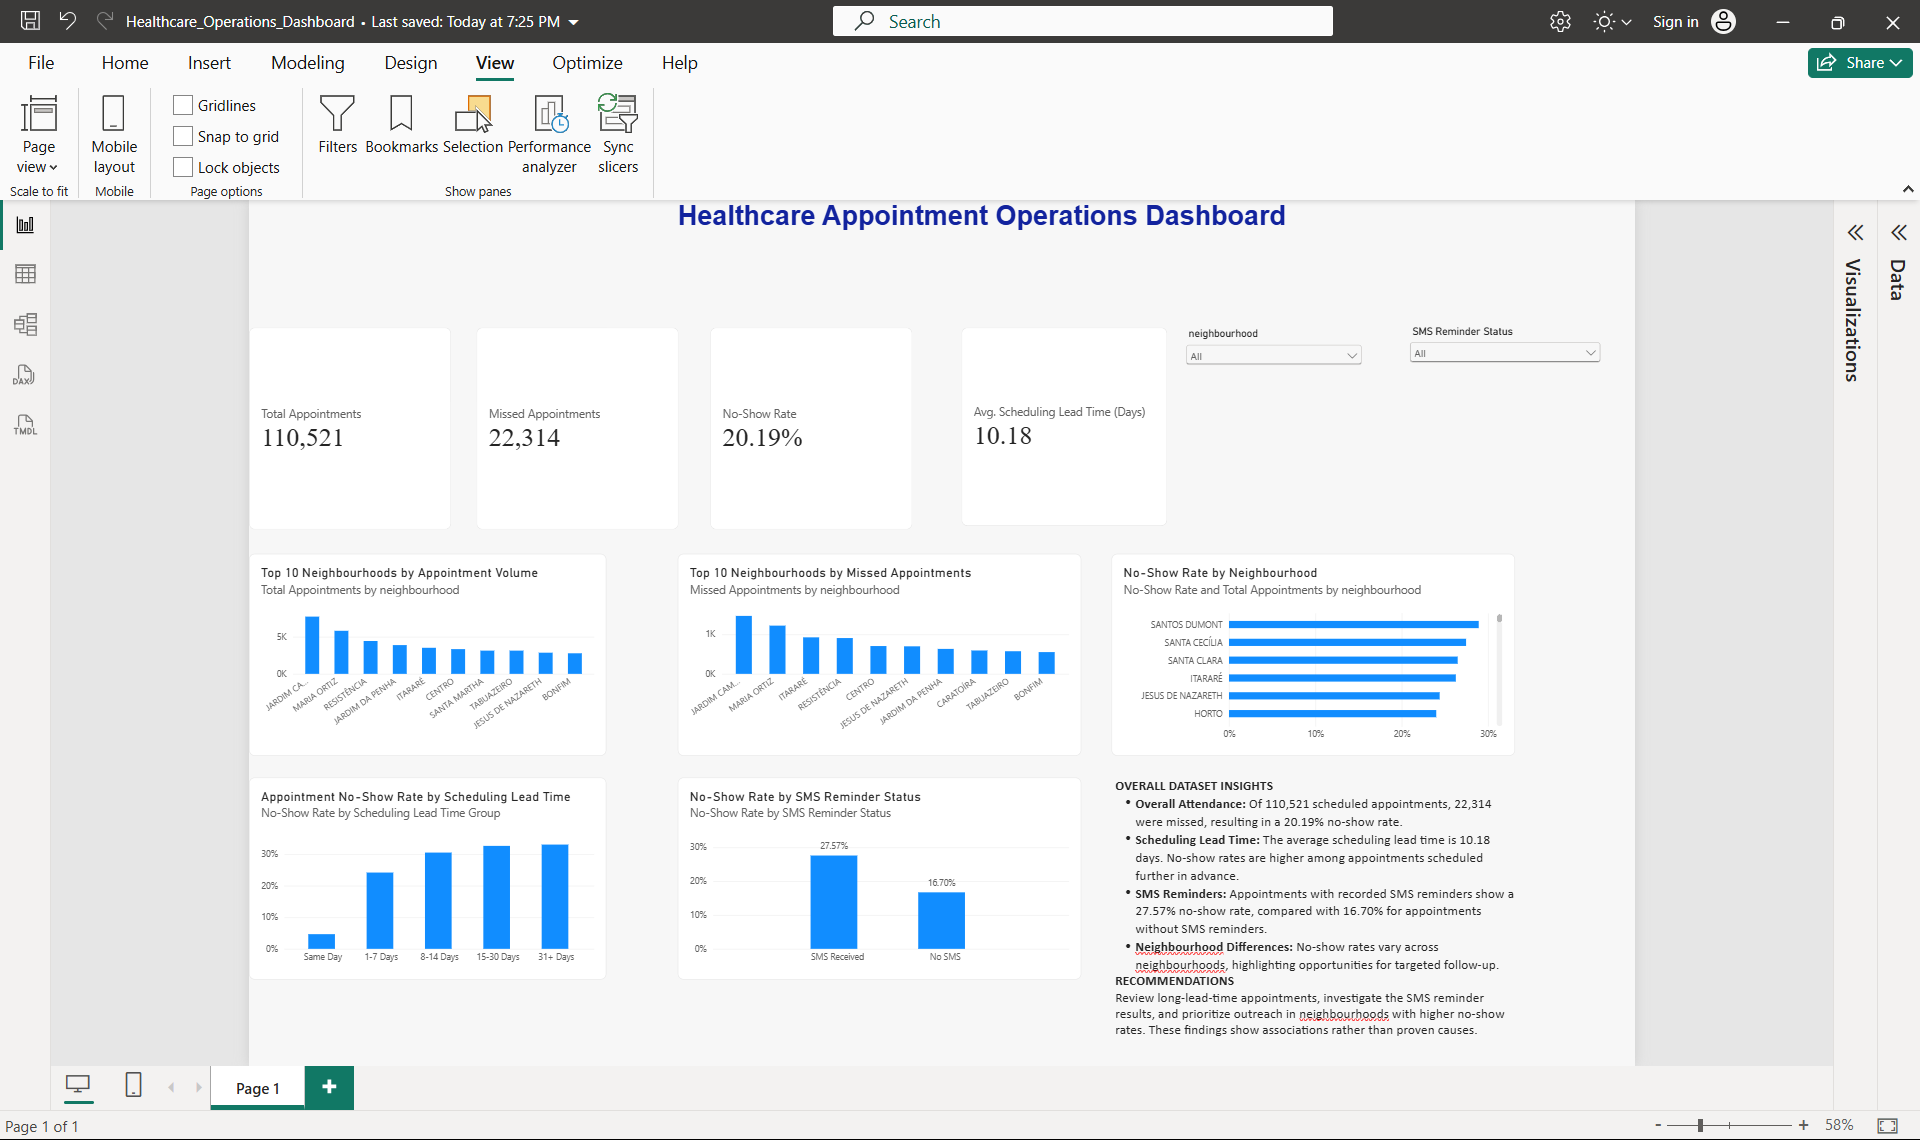

The dashboard page shown, as its layout file describes it:
{"tool":"powerbi","page":{"name":"Page 1","canvas":[1920,1200],"ordinal":0},"visuals":[{"type":"cardVisual","fields":{"Data":["medical_appointments_cleaned.Total Appointments"]},"box":[0,176.8,280,280],"z":0},{"type":"cardVisual","fields":{"Data":["medical_appointments_cleaned.No-Show Rate"]},"box":[639.5,176.8,280,280],"z":1000},{"type":"cardVisual","fields":{"Data":["medical_appointments_cleaned.Missed Appointments"]},"box":[314.6,176.8,280,280],"z":2000},{"type":"cardVisual","title":"Average Scheduling","fields":{"Data":["medical_appointments_cleaned.Average Scheduling Lead Time"]},"box":[986.9,176.8,285.8,275.5],"z":3000},{"type":"clusteredColumnChart","title":"Top 10 Neighbourhoods by Appointment Volume","fields":{"Category":["medical_appointments_cleaned.neighbourhood"],"Y":["medical_appointments_cleaned.Total Appointments"]},"box":[0,489.4,495.5,279.6],"z":4000},{"type":"clusteredColumnChart","title":"Top 10 Neighbourhoods by Missed Appointments","fields":{"Category":["medical_appointments_cleaned.neighbourhood"],"Y":["medical_appointments_cleaned.Missed Appointments"]},"box":[594.2,489.4,559.3,279.6],"z":5000},{"type":"clusteredBarChart","title":"No-Show Rate by Neighbourhood","fields":{"Category":["medical_appointments_cleaned.neighbourhood"],"Y":["medical_appointments_cleaned.No-Show Rate"]},"box":[1194.6,489.4,559,280],"z":6000},{"type":"clusteredColumnChart","title":"Appointment No-Show Rate by Scheduling Lead Time","fields":{"Category":["medical_appointments_cleaned.Waiting Time Group"],"Y":["medical_appointments_cleaned.No-Show Rate"]},"box":[0,799.8,495.5,279.6],"z":7000},{"type":"textbox","box":[0,0,496,238.5],"z":8000},{"type":"textbox","box":[594.2,0,880,119.3],"z":9000},{"type":"slicer","fields":{"Values":["medical_appointments_cleaned.neighbourhood"]},"box":[1293.3,176.8,252.9,279.6],"z":10000},{"type":"slicer","fields":{"Values":["medical_appointments_cleaned.SMS Reminder Status"]},"box":[1603.8,172.7,273.5,279.6],"z":11000},{"type":"clusteredColumnChart","title":"No-Show Rate by SMS Reminder Status","fields":{"Category":["medical_appointments_cleaned.SMS Reminder Status"],"Y":["medical_appointments_cleaned.No-Show Rate"]},"box":[594.2,799.8,559.3,279.6],"z":12000},{"type":"textbox","box":[1602,0,273,150],"z":13000},{"type":"textbox","box":[1200,800,560,368],"z":14000}]}

Visuals, with their boxes on the page's 1920x1200 design canvas (x1, y1, x2, y2). These are canvas units, not pixel positions in the 1920x1140 screenshot, which may show the page scaled, cropped or inside an application window:
cardVisual - medical_appointments_cleaned.Total Appointments: detection(0, 177, 280, 457)
cardVisual - medical_appointments_cleaned.No-Show Rate: detection(640, 177, 920, 457)
cardVisual - medical_appointments_cleaned.Missed Appointments: detection(315, 177, 595, 457)
"Average Scheduling" cardVisual: detection(987, 177, 1273, 452)
"Top 10 Neighbourhoods by Appointment Volume" clusteredColumnChart: detection(0, 489, 496, 769)
"Top 10 Neighbourhoods by Missed Appointments" clusteredColumnChart: detection(594, 489, 1154, 769)
"No-Show Rate by Neighbourhood" clusteredBarChart: detection(1195, 489, 1754, 769)
"Appointment No-Show Rate by Scheduling Lead Time" clusteredColumnChart: detection(0, 800, 496, 1079)
textbox: detection(0, 0, 496, 238)
textbox: detection(594, 0, 1474, 119)
slicer - medical_appointments_cleaned.neighbourhood: detection(1293, 177, 1546, 456)
slicer - medical_appointments_cleaned.SMS Reminder Status: detection(1604, 173, 1877, 452)
"No-Show Rate by SMS Reminder Status" clusteredColumnChart: detection(594, 800, 1154, 1079)
textbox: detection(1602, 0, 1875, 150)
textbox: detection(1200, 800, 1760, 1168)
